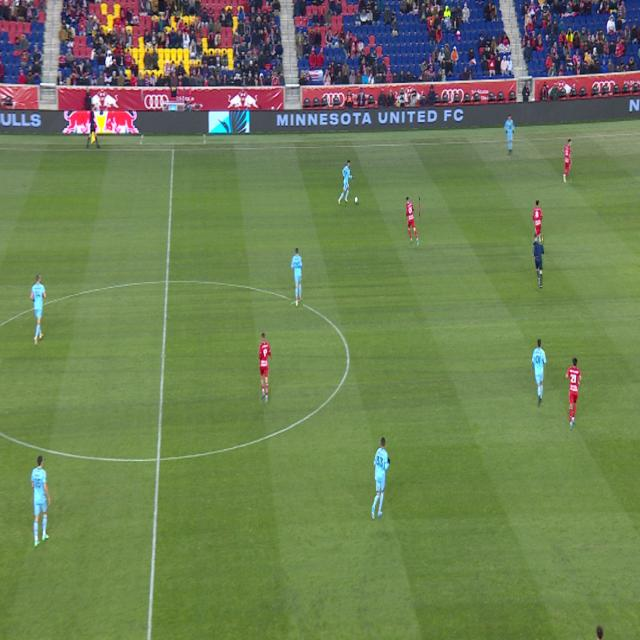football: (355, 196, 358, 204)
player: (31, 456, 51, 547), (372, 438, 390, 519), (565, 358, 582, 430), (30, 275, 46, 345), (532, 340, 546, 405), (259, 333, 271, 404), (338, 160, 354, 204), (291, 249, 303, 307), (407, 197, 419, 246), (533, 200, 542, 245), (563, 139, 572, 183), (505, 115, 514, 154), (597, 626, 603, 640)
referee: (533, 233, 544, 289)
